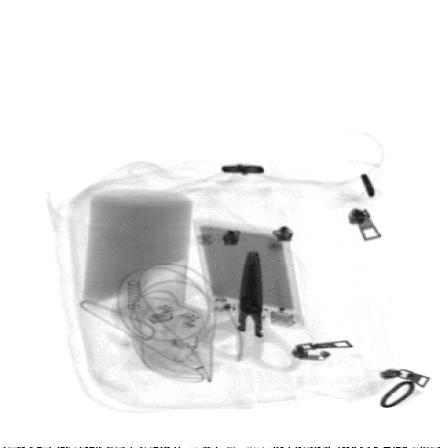Powerbank: (195, 217, 307, 328)
Scissors: (194, 250, 307, 376)
